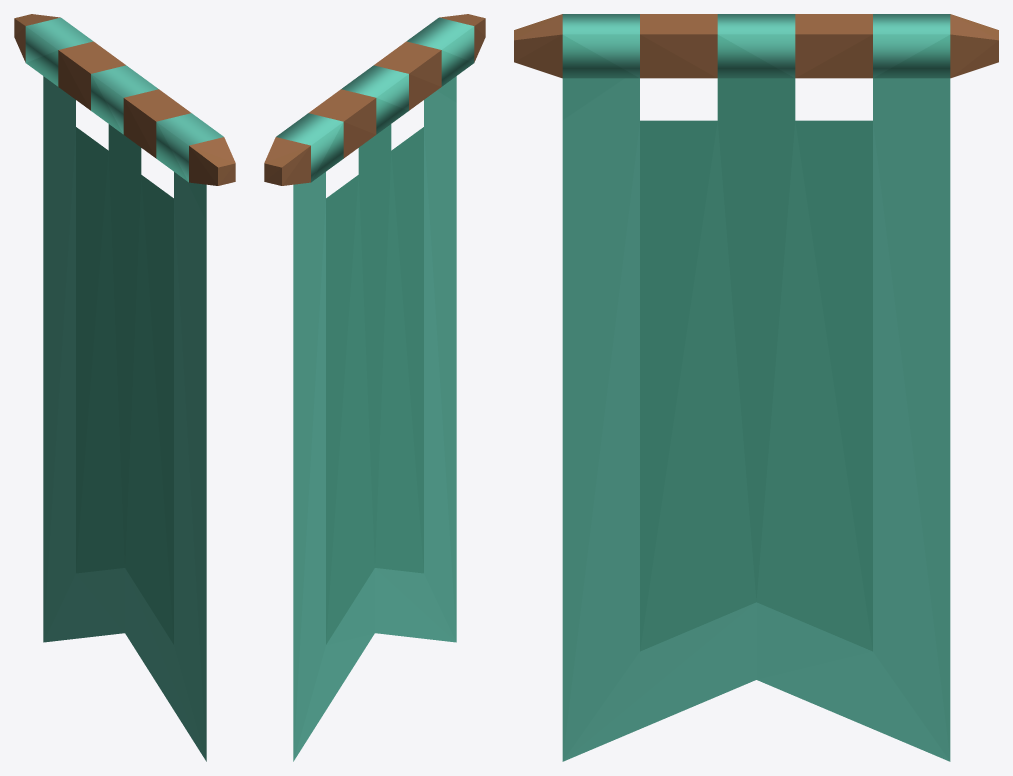
Rendered from kenney_town_banner_green.glb.
3 views of the same model, side by side, from view 1: azimuth 30°, elevation 25°; view 2: azimuth 150°, elevation 25°; view 3: azimuth 270°, elevation 25° (orthographic). The views are drawn at different scales.
Visible parts, largest first — view 1: cloth, wood; view 2: cloth, wood; view 3: cloth, wood.
Part boxes in pixels (bbox=[...]): cloth: bbox=[25, 17, 223, 761]; wood: bbox=[14, 14, 235, 185]; cloth: bbox=[276, 17, 474, 761]; wood: bbox=[264, 14, 485, 185]; cloth: bbox=[562, 14, 950, 761]; wood: bbox=[514, 14, 998, 78].
Bounding box in the file's own units: 0.05 × 0.8394 × 0.5.
